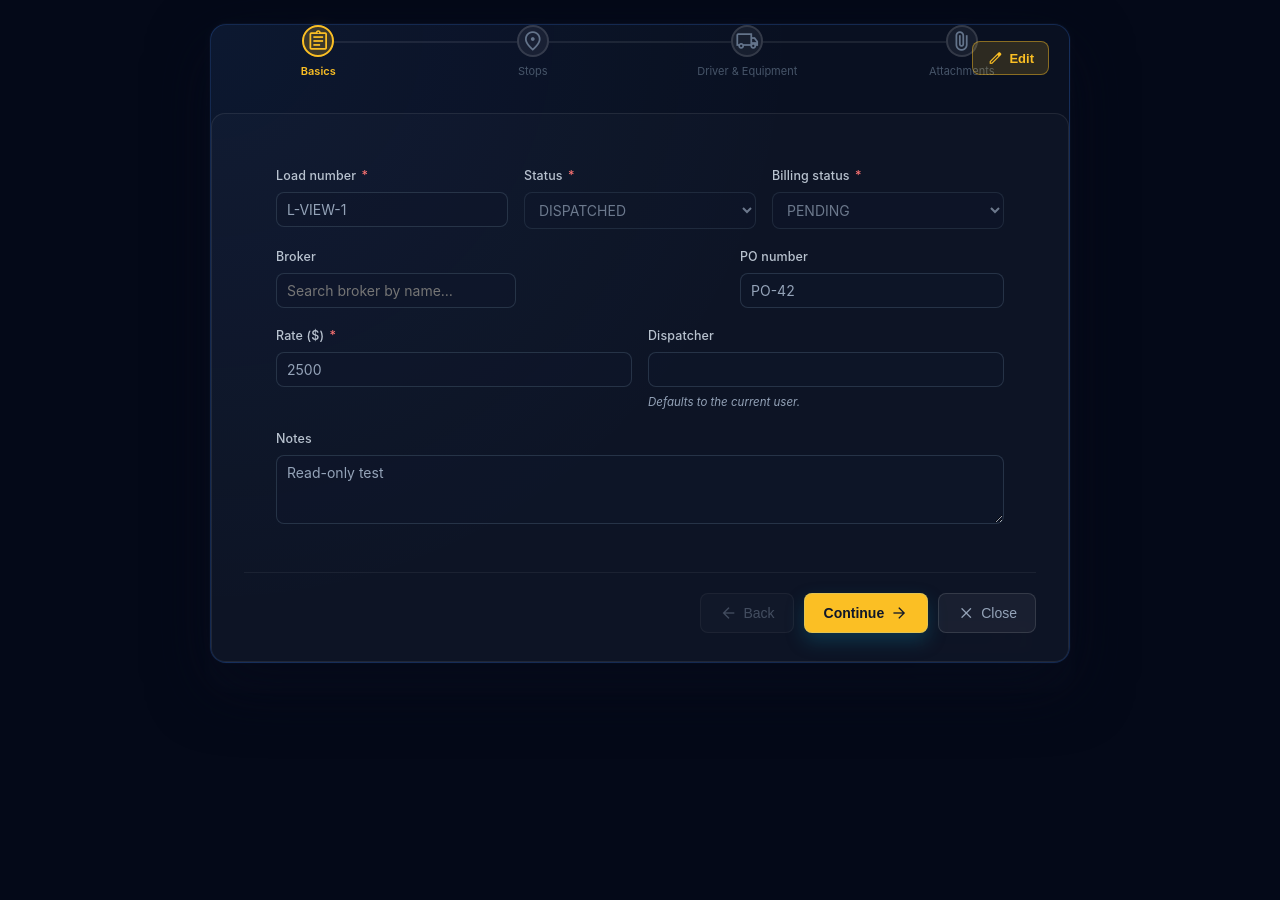
Scenario: LoadWizardComponent (FN-862) › view mode (FN-868 / FN-885) › renders the Edit button when canEdit is true and flips mode to edit on click
The width and height of the screenshot is (1280, 900).
Click the button with test id "load-wizard-edit": (1011, 58) x1=972 y1=41 x2=1049 y2=75
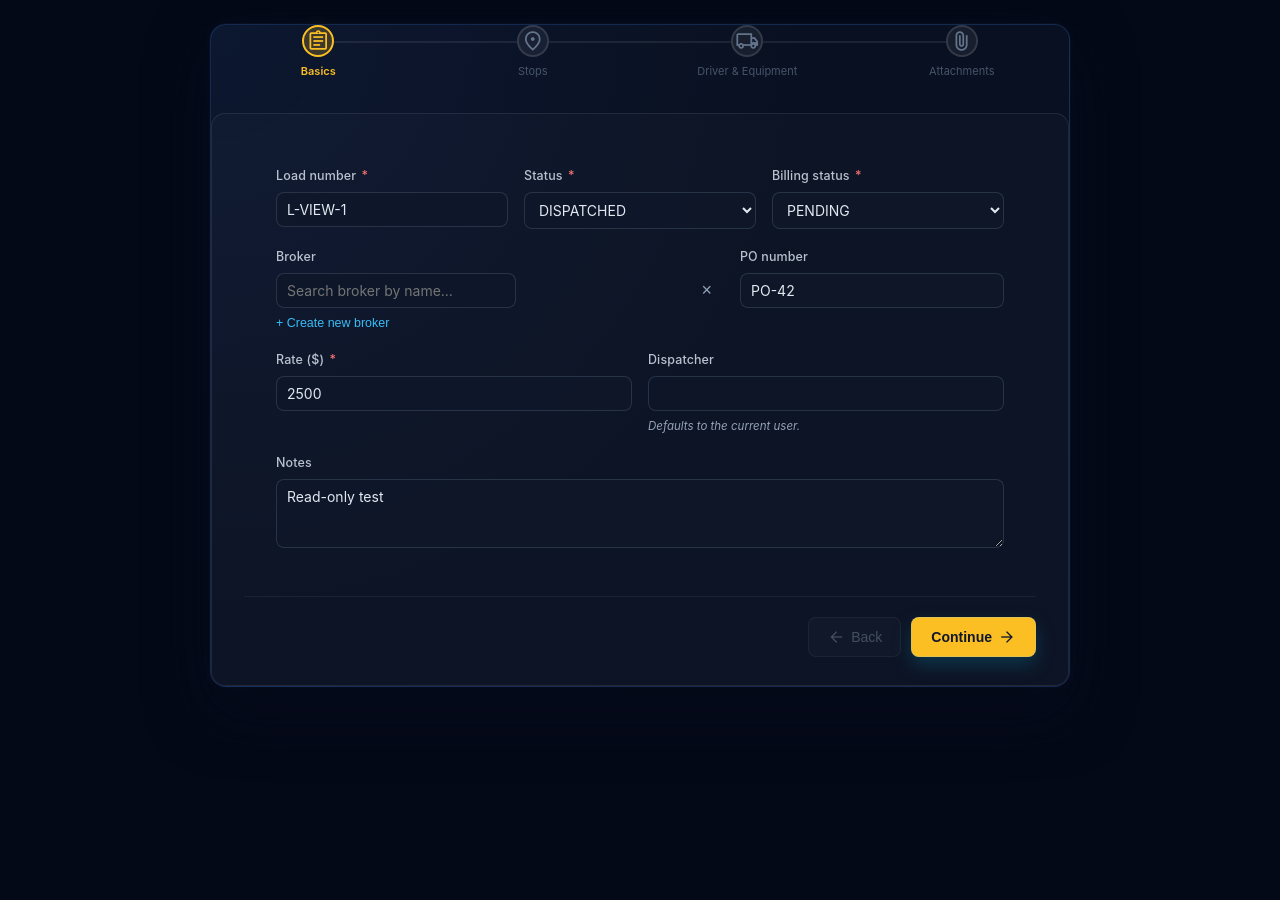
Now the button with test id "load-wizard-edit" is gone
